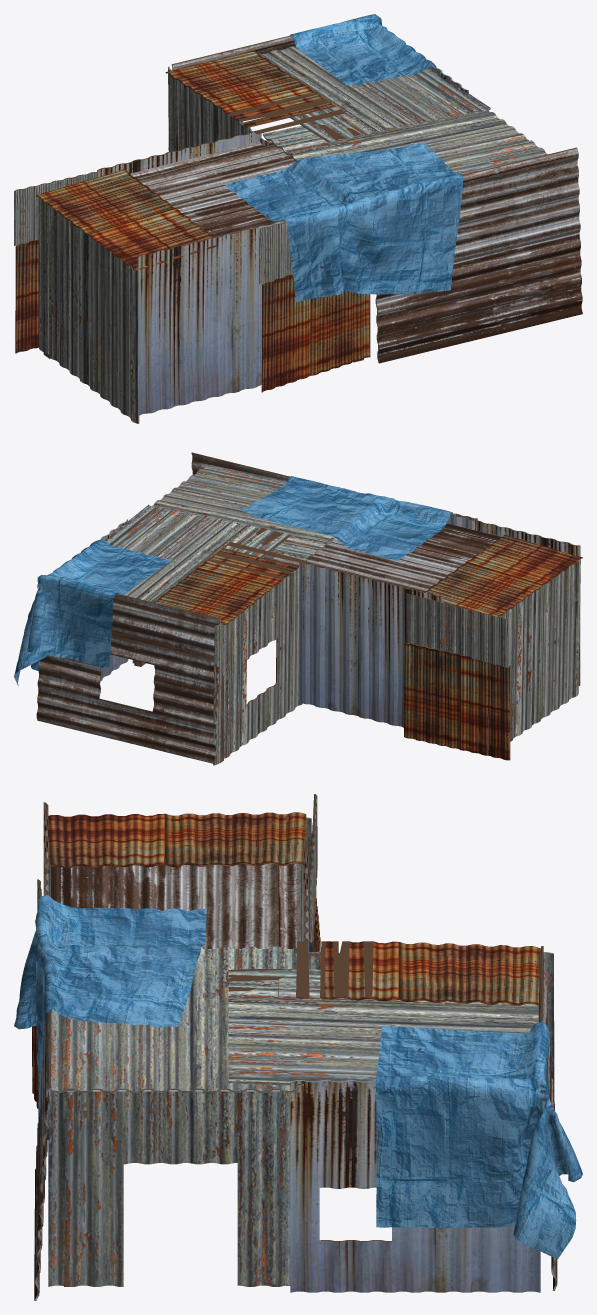
File: surface-home.glb
The picture shows the model from 3 angles, top to bottom: view 1: azimuth 30°, elevation 25°; view 2: azimuth 150°, elevation 25°; view 3: azimuth 270°, elevation 25°; orthographic projection. The views are drawn at different scales.
Visible parts, largest first — view 1: Cube.013, Plane, Plane.001; view 2: Cube.013, Plane.001, Plane; view 3: Cube.013, Plane.001, Plane.
Part boxes in pixels (bbox=[...]): Cube.013: bbox=[14, 35, 582, 423]; Plane: bbox=[224, 142, 462, 302]; Plane.001: bbox=[290, 14, 436, 85]; Cube.013: bbox=[36, 452, 582, 765]; Plane.001: bbox=[14, 538, 172, 686]; Plane: bbox=[240, 476, 452, 560]; Cube.013: bbox=[32, 794, 557, 1300]; Plane.001: bbox=[375, 1021, 582, 1258]; Plane: bbox=[14, 895, 206, 1132].
Bounding box in the file's own units: 0.9262 × 0.3188 × 0.7221.
Materials: 6 (6 with a texture image).
